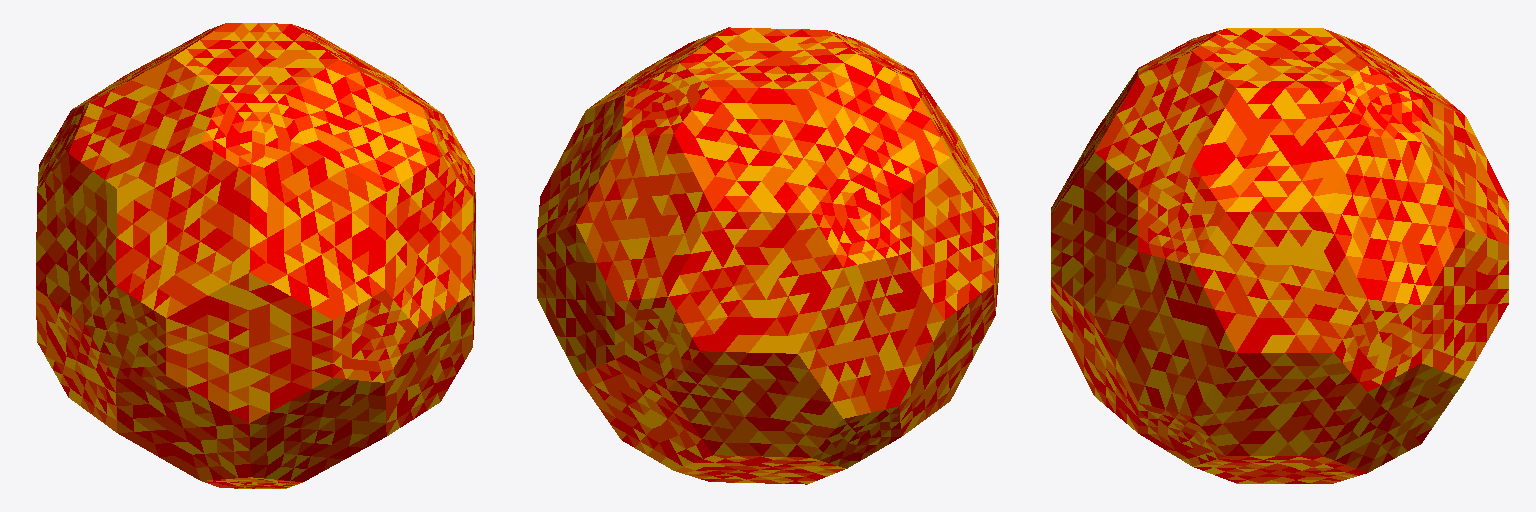
Rendered from testfc.obj.
The picture shows the model from 3 angles: view 1: azimuth 30°, elevation 25°; view 2: azimuth 150°, elevation 25°; view 3: azimuth 270°, elevation 25°; orthographic projection.
Parts seen in each view (by area): view 1: 0; view 2: 0; view 3: 0.
Boxes of the visible parts, box(x1,y1,x2,y2) form: 0: box(36, 23, 475, 488); 0: box(537, 27, 998, 484); 0: box(1051, 28, 1508, 483).
Size of the model in its own units: 445 by 424 by 445.